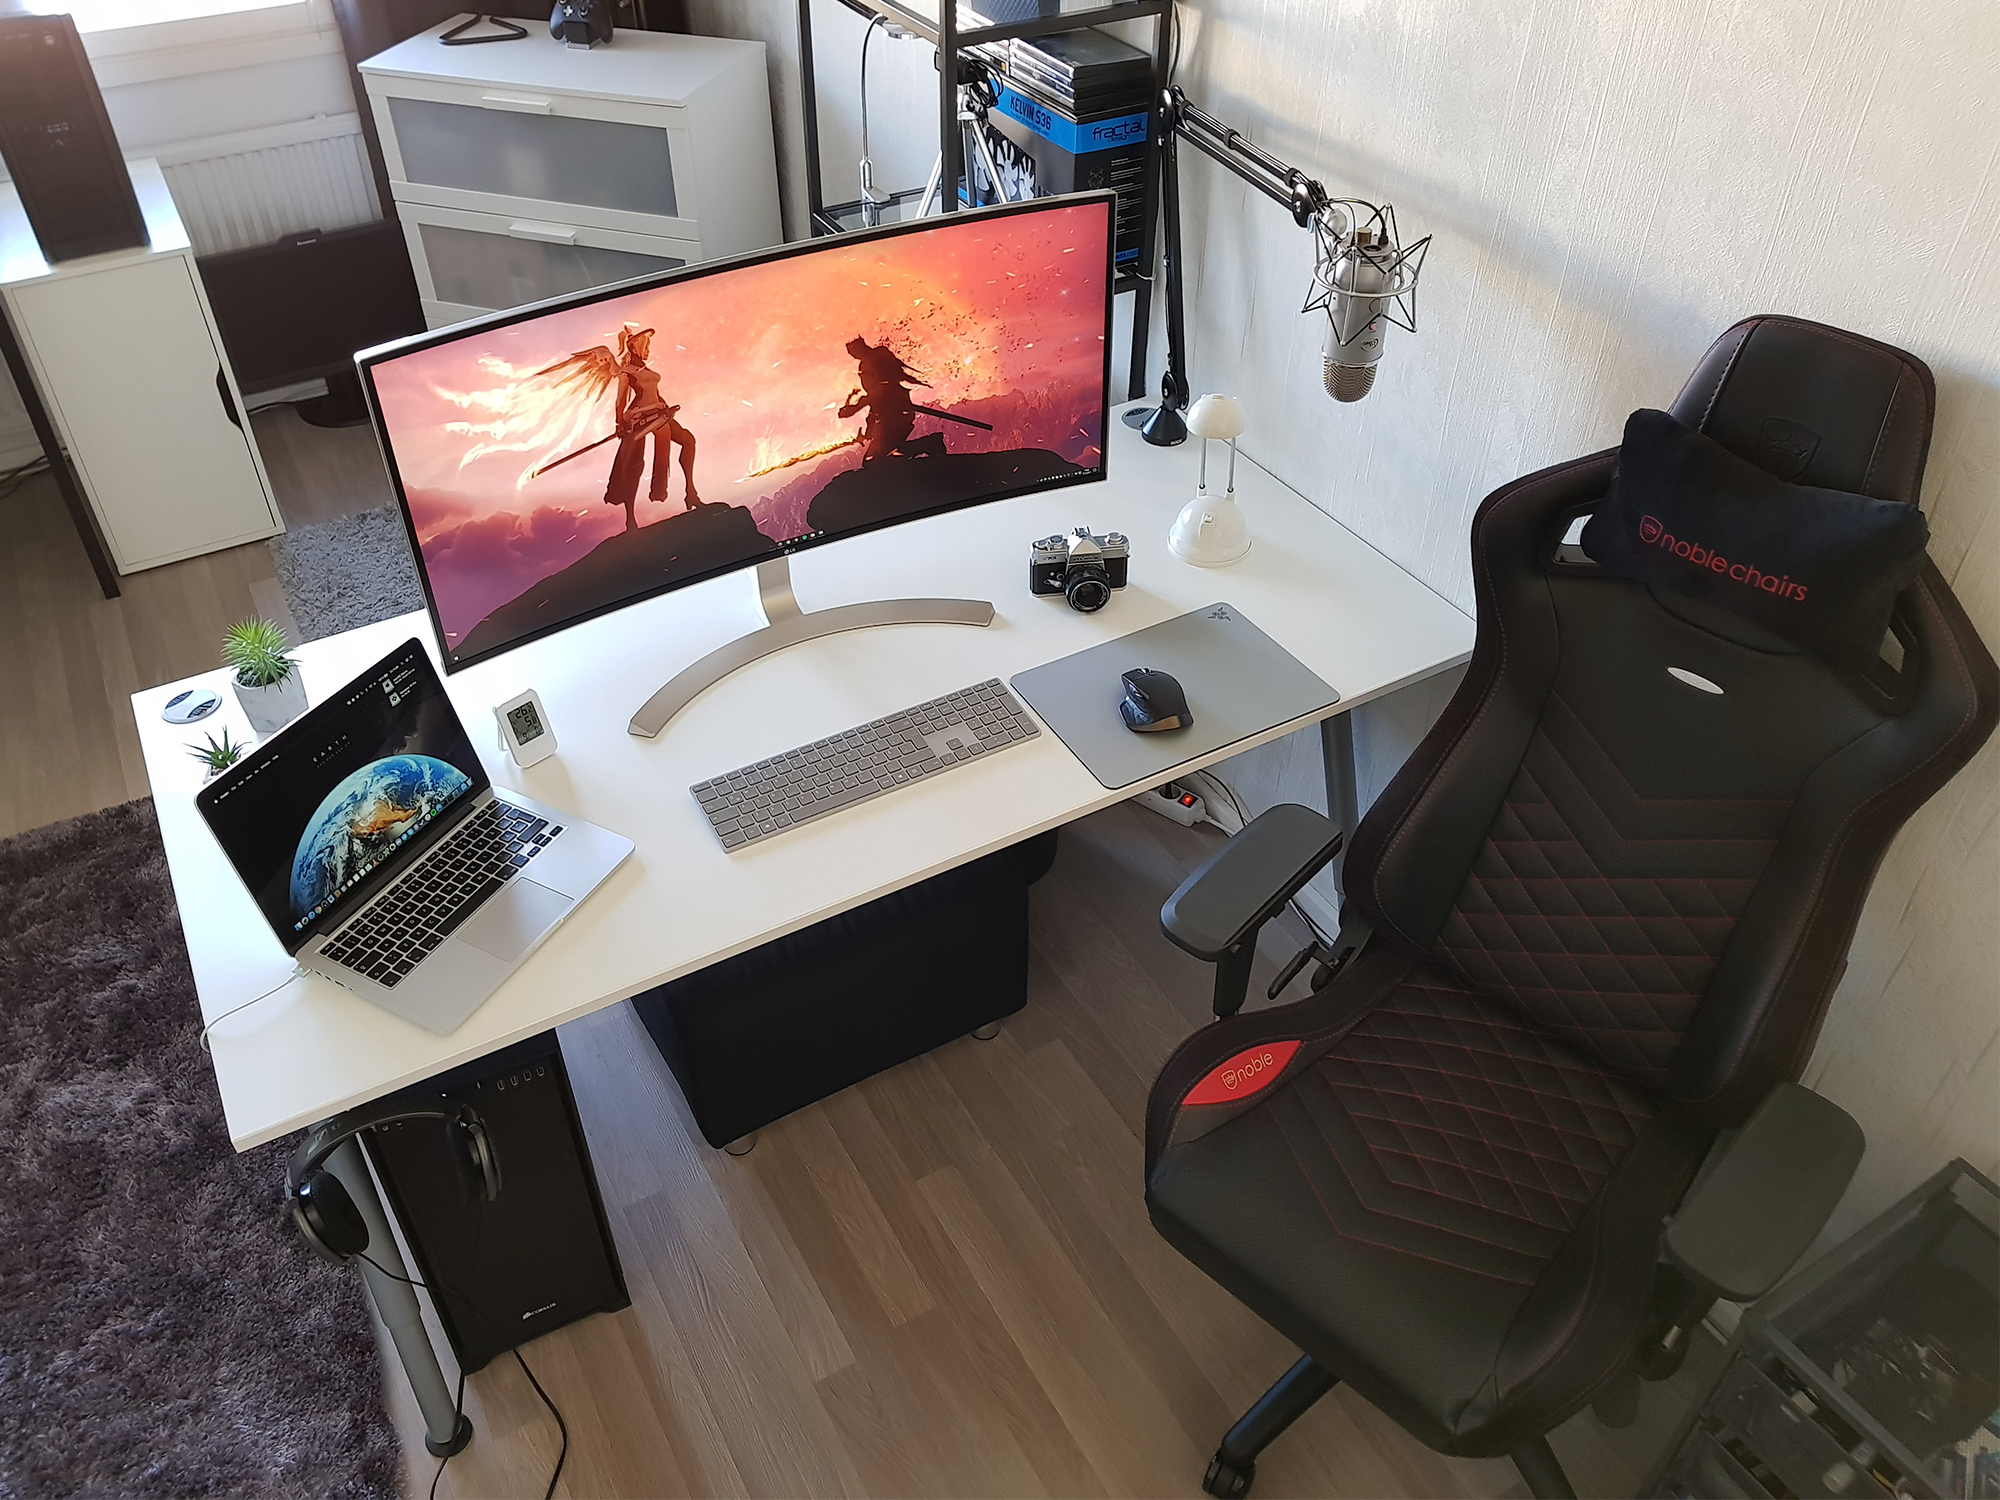Chair (Gaming): (1150, 331, 2000, 1500)
Decoration (Miniature): (1167, 388, 1268, 574)
Decoration (Plant): (224, 632, 313, 730), (189, 722, 257, 793)
Desk (Standing): (187, 380, 1458, 1134)
Desktop (Windows): (391, 1073, 647, 1364)
External Microphone (with Boom Arm): (1279, 202, 1420, 414)
Footrest: (609, 863, 1113, 1147)
Headphones: (265, 1109, 518, 1275)
Keyboard (Generic): (680, 676, 1049, 838)
Laptop (OSX): (268, 635, 420, 1026)
Monitor (Landscape): (369, 191, 1112, 652)
Mouse (Ergonomic): (1113, 668, 1217, 741)
Mousepad (Generic): (1006, 600, 1380, 786)
